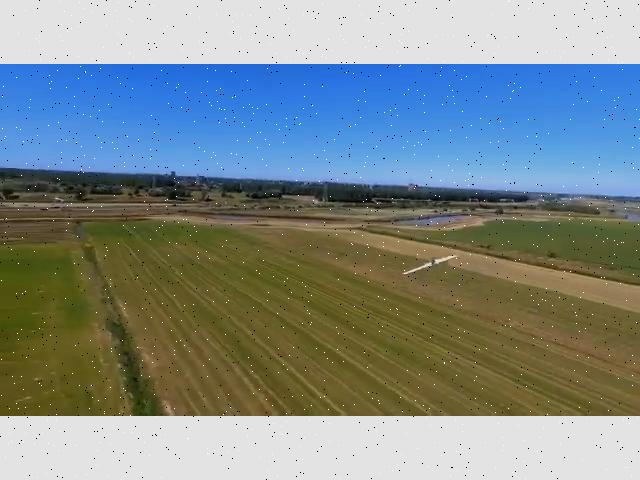Anti-Drone: (398, 245, 464, 280)
